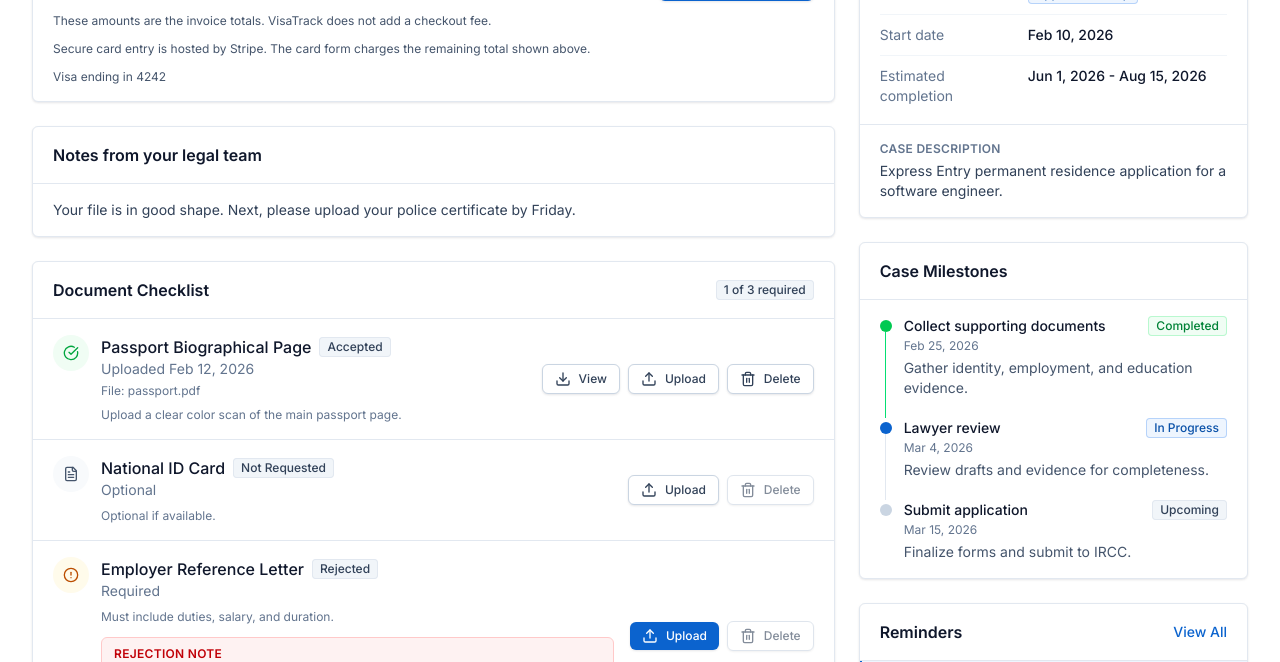
ClientDashboard documents › CT-CLIENT-16: deletes an uploaded file after confirmation
(page scrolled)
Expected: the heading "Document Checklist" is shown, [53,278,209,302]
Click the button "Delete" in the row of "Uploaded Feb 12, 2026" at [770, 379], box [727,364,814,394]
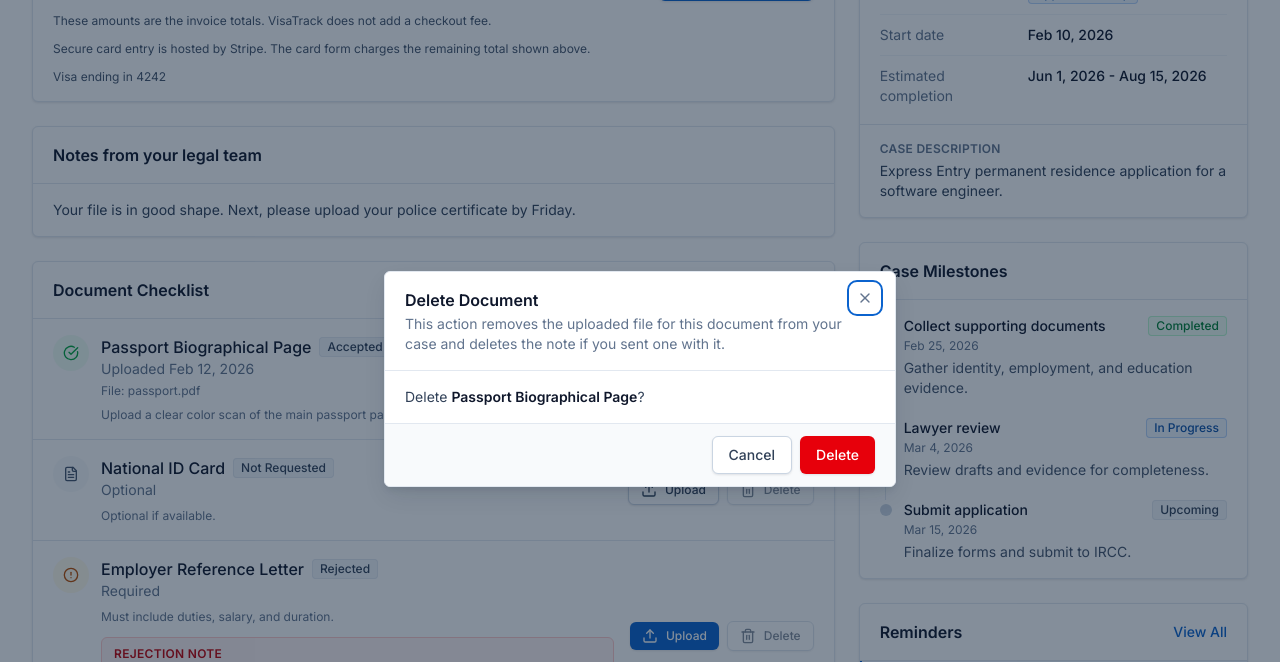
Click the button "Delete" at [838, 455], box [800,436,875,474]
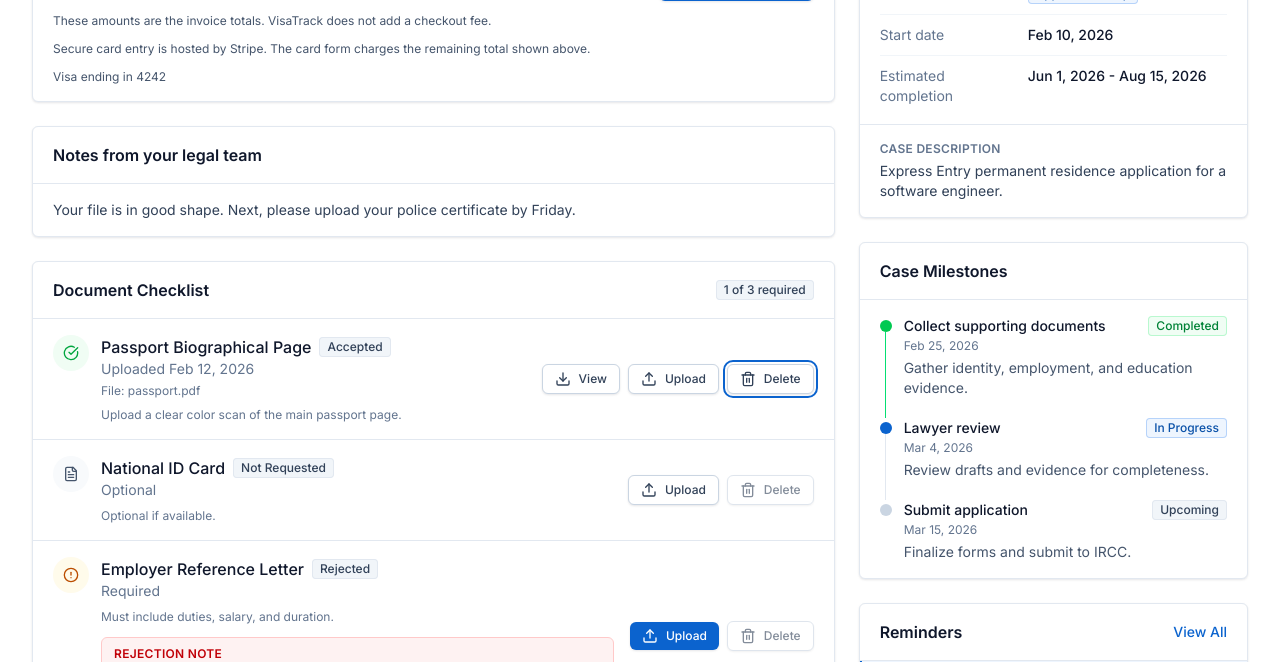
Now the heading "Delete Document" is gone
